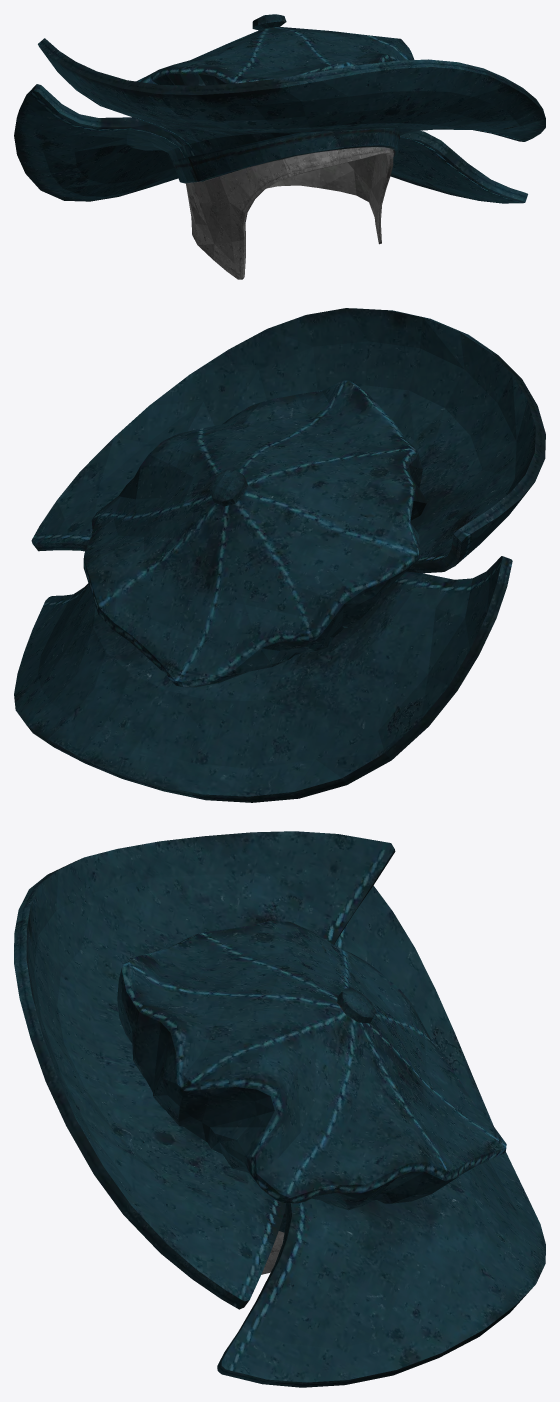
File: DUZY_KAPELUSZ.glb
3 renders of one model, top to bottom at view 1: azimuth 30°, elevation 25°; view 2: azimuth 150°, elevation 25°; view 3: azimuth 270°, elevation 25°, orthographic. The views are drawn at different scales.
Visible parts, largest first — view 1: DUZY_KAPELUSZ; view 2: DUZY_KAPELUSZ; view 3: DUZY_KAPELUSZ.
Boxes of the visible parts, bbox=[...] form: DUZY_KAPELUSZ: bbox=[14, 14, 545, 279]; DUZY_KAPELUSZ: bbox=[14, 308, 545, 802]; DUZY_KAPELUSZ: bbox=[14, 831, 545, 1387].
Bounding box in the file's own units: 0.5251 × 0.302 × 0.4202.
1 material, 1 textured.
